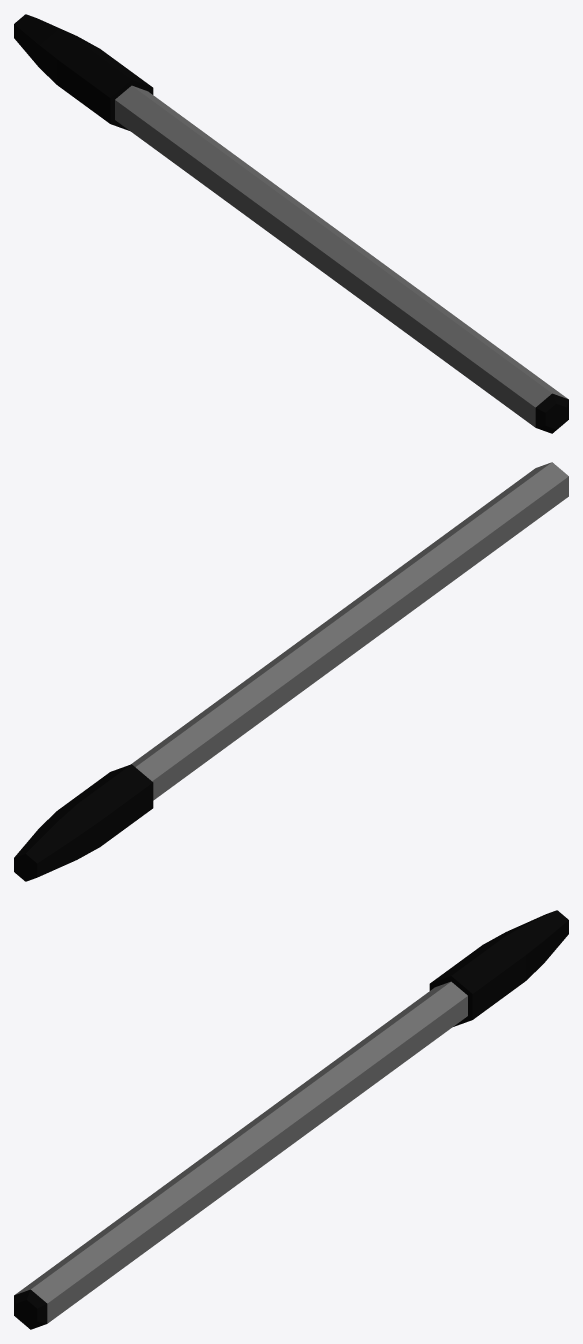
The model's file is H_Pen_Black.fbx.
3 renders of one model, top to bottom at view 1: azimuth 30°, elevation 25°; view 2: azimuth 150°, elevation 25°; view 3: azimuth 330°, elevation 25°, orthographic.
Visible parts, largest first — view 1: H_Pen_Black; view 2: H_Pen_Black; view 3: H_Pen_Black.
Boxes of the visible parts, left/top/right/bottom form: H_Pen_Black: left=14, top=14, right=568, bottom=433; H_Pen_Black: left=14, top=462, right=568, bottom=881; H_Pen_Black: left=14, top=910, right=568, bottom=1329.
Bounding box in the file's own units: 5.08 × 109 × 5.87.
